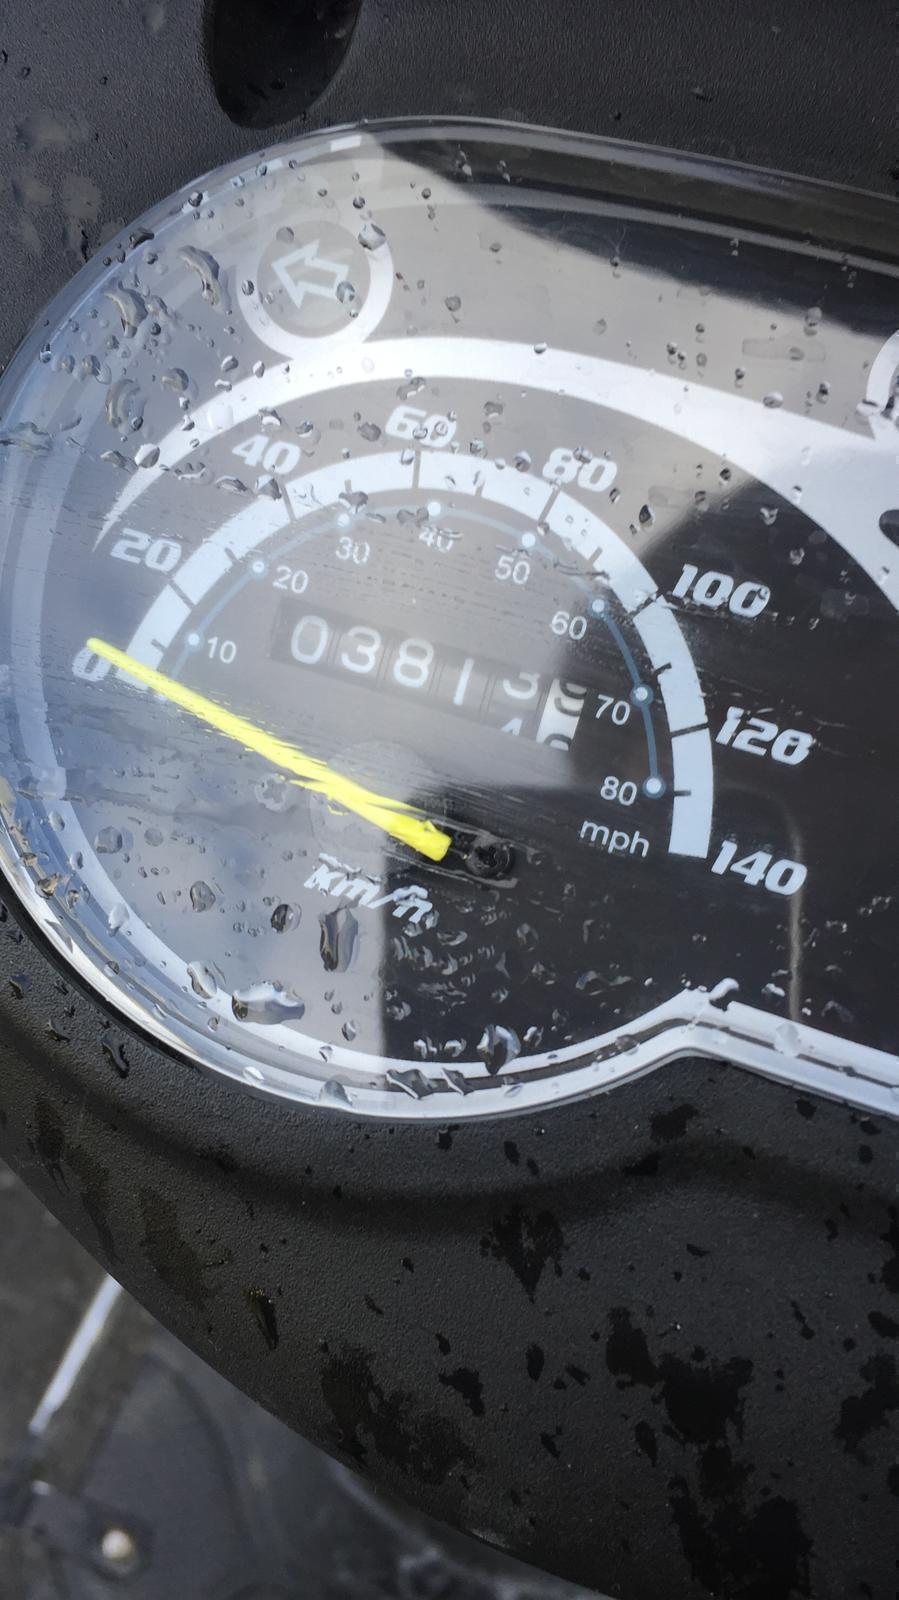0: (289, 612, 329, 664), (569, 615, 587, 641)
1: (449, 657, 475, 705)
3: (340, 624, 381, 674), (501, 649, 542, 700)
6: (550, 609, 569, 636)
8: (392, 634, 435, 689)
9: (553, 668, 590, 718)
odometer: (260, 590, 591, 756)
